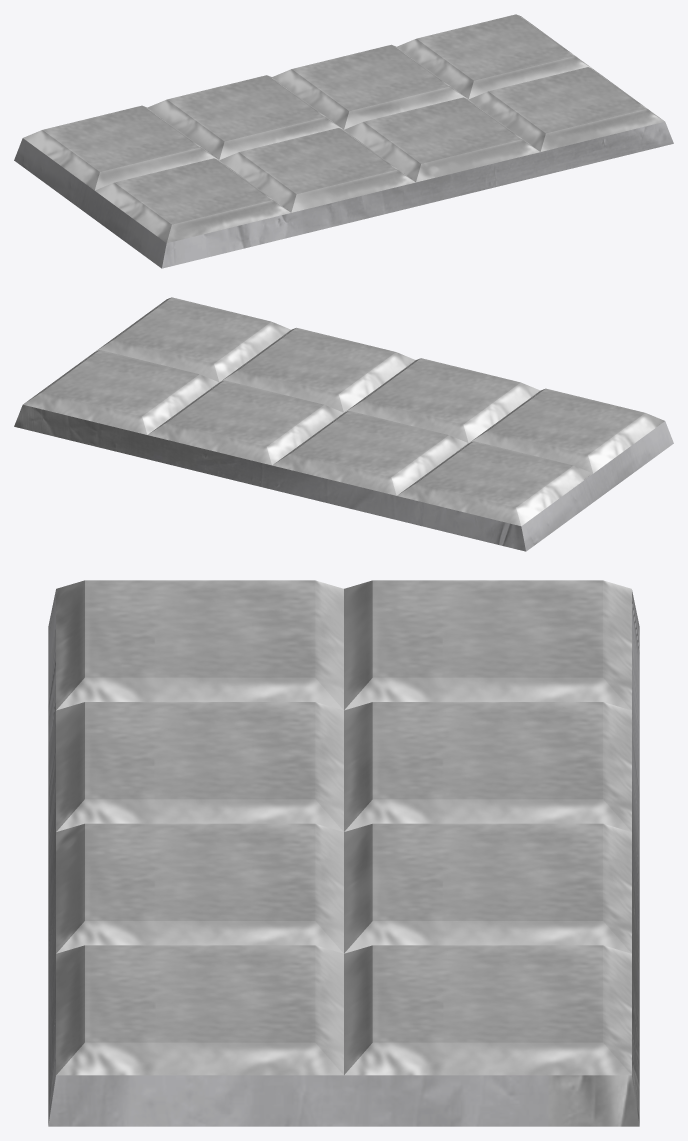
Rendered from KindledSpirits-ChocolateFoil.fbx.
3 renders of one model, top to bottom at view 1: azimuth 30°, elevation 25°; view 2: azimuth 150°, elevation 25°; view 3: azimuth 270°, elevation 25°, orthographic. The views are drawn at different scales.
Visible parts, largest first — view 1: ChocloateFoil-LOD0; view 2: ChocloateFoil-LOD0; view 3: ChocloateFoil-LOD0.
Boxes of the visible parts, left/top/right/bottom form: ChocloateFoil-LOD0: left=14, top=14, right=673, bottom=268; ChocloateFoil-LOD0: left=14, top=297, right=673, bottom=551; ChocloateFoil-LOD0: left=48, top=580, right=639, bottom=1126.
Size of the model in its own units: 71.1 by 4.33 by 35.55.
